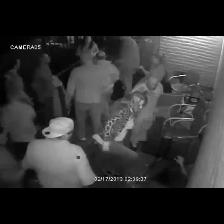person: (23, 118, 95, 187), (68, 45, 117, 140), (1, 61, 36, 160), (131, 75, 163, 147), (31, 54, 54, 125), (115, 36, 139, 96), (140, 53, 172, 92)
